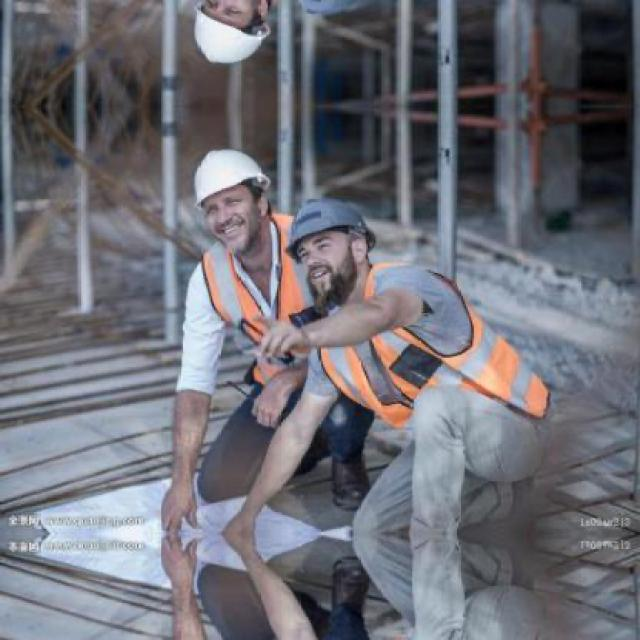Reflective-Jacket: (315, 265, 548, 429), (190, 219, 312, 390)
Safety-Helmet: (180, 139, 277, 213), (278, 191, 384, 256)
